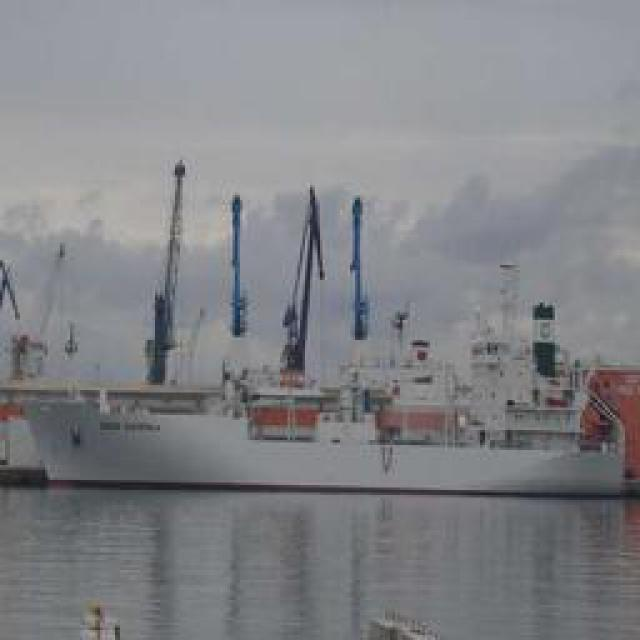Ship: (21, 154, 634, 494)
